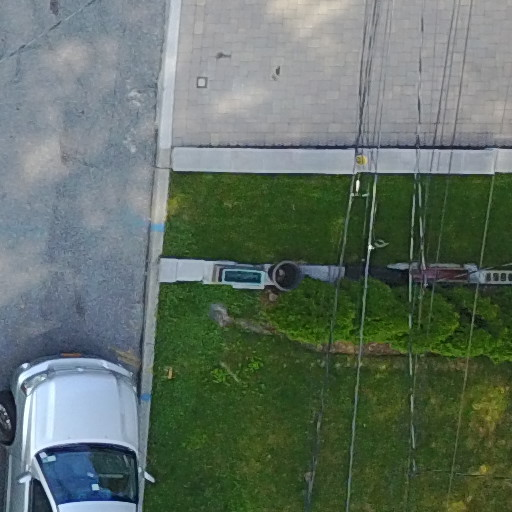container: (212, 257, 273, 308)
flower pot: (274, 256, 304, 299)
